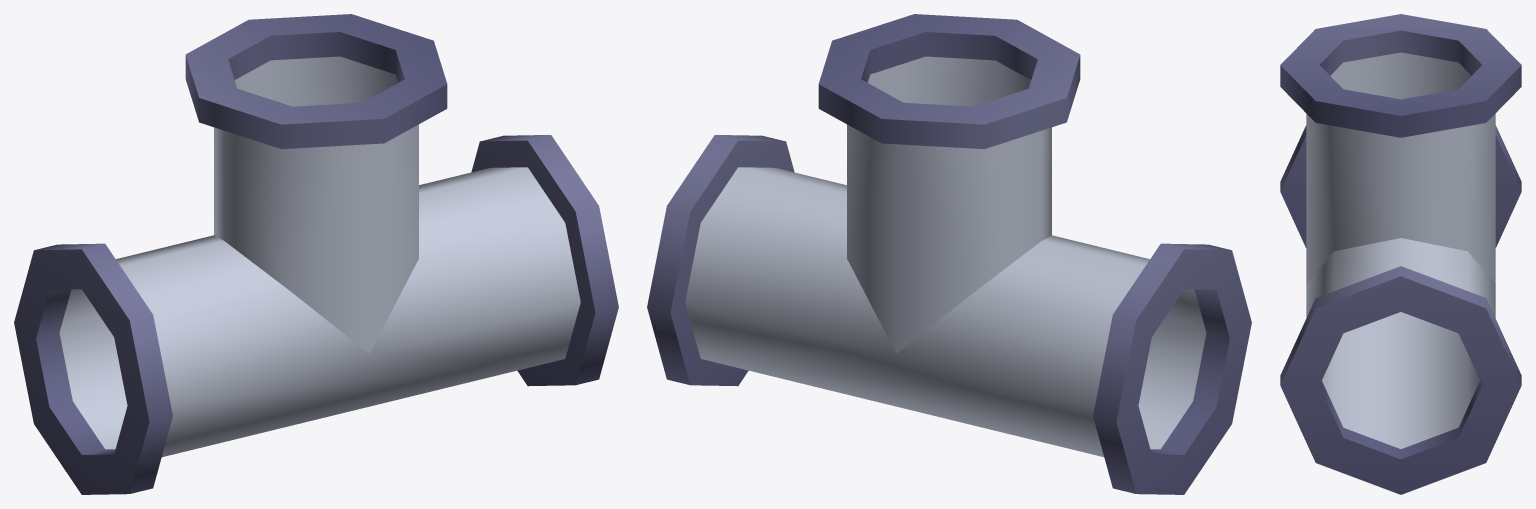
File: kenney-factory-pipe-glass-large-side.glb
3 renders of one model, left to right at view 1: azimuth 30°, elevation 25°; view 2: azimuth 150°, elevation 25°; view 3: azimuth 270°, elevation 25°, orthographic. The views are drawn at different scales.
Parts seen in each view (by area): view 1: pipe-glass-large-side; view 2: pipe-glass-large-side; view 3: pipe-glass-large-side.
Part boxes in pixels (x1,y1,x2,y2): pipe-glass-large-side: [14, 14, 618, 494]; pipe-glass-large-side: [647, 14, 1251, 494]; pipe-glass-large-side: [1280, 14, 1521, 494].
Bounding box in the file's own units: 2 × 1.5 × 1.
2 materials, 1 textured.
